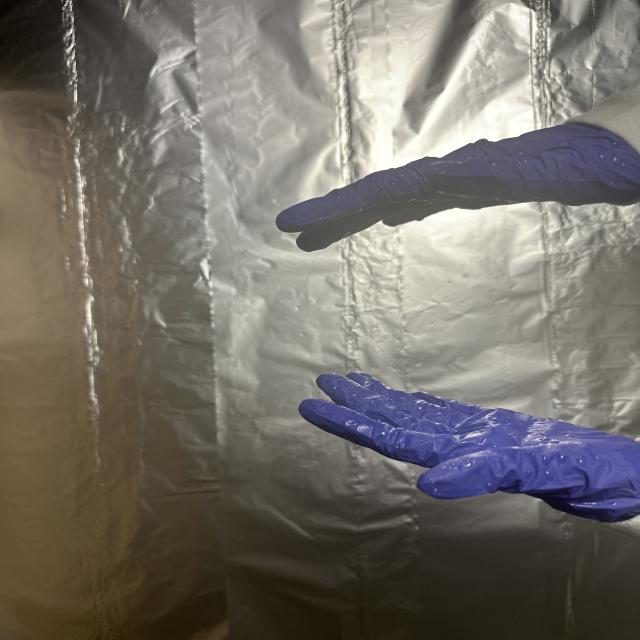gloves_contaminated: (300, 373, 640, 523), (276, 124, 640, 251)
